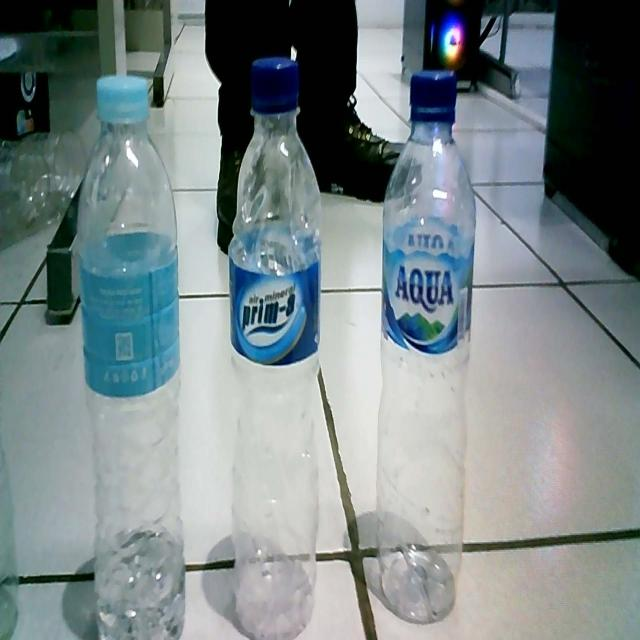botol: (67, 60, 195, 640), (218, 43, 329, 640), (375, 65, 490, 640)
